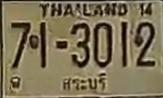0: (93, 22, 111, 66)
1: (40, 22, 46, 68), (120, 21, 126, 66)
2: (134, 20, 154, 66)
3: (70, 22, 89, 67)
7: (10, 20, 30, 68)
SRI: (60, 71, 114, 94)
